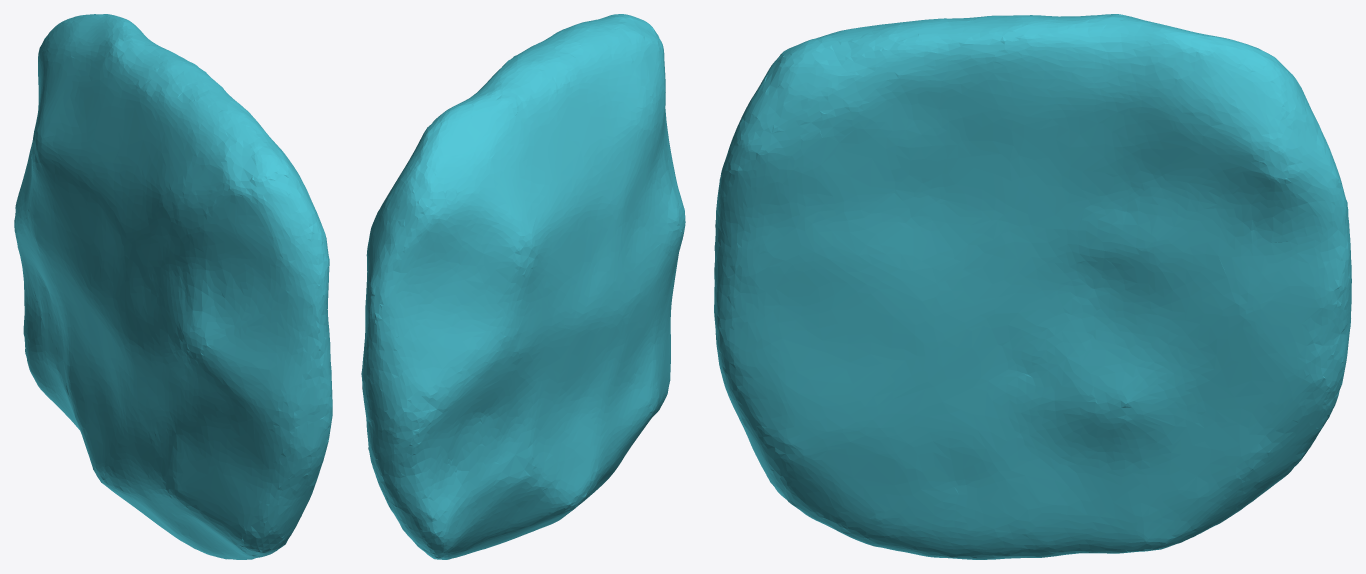
The picture shows the model from 3 angles, left to right: view 1: azimuth 30°, elevation 25°; view 2: azimuth 150°, elevation 25°; view 3: azimuth 270°, elevation 25°; orthographic projection. The views are drawn at different scales.
Parts seen in each view (by area): view 1: Renderer Node; view 2: Renderer Node; view 3: Renderer Node.
Part boxes in pixels (box(x1,y1,x2,y2)): Renderer Node: box(14, 14, 332, 559); Renderer Node: box(361, 14, 685, 559); Renderer Node: box(714, 14, 1351, 559).
Bounding box in the file's own units: 0.1707 × 0.6316 × 0.6787.
1 material, 1 textured.
